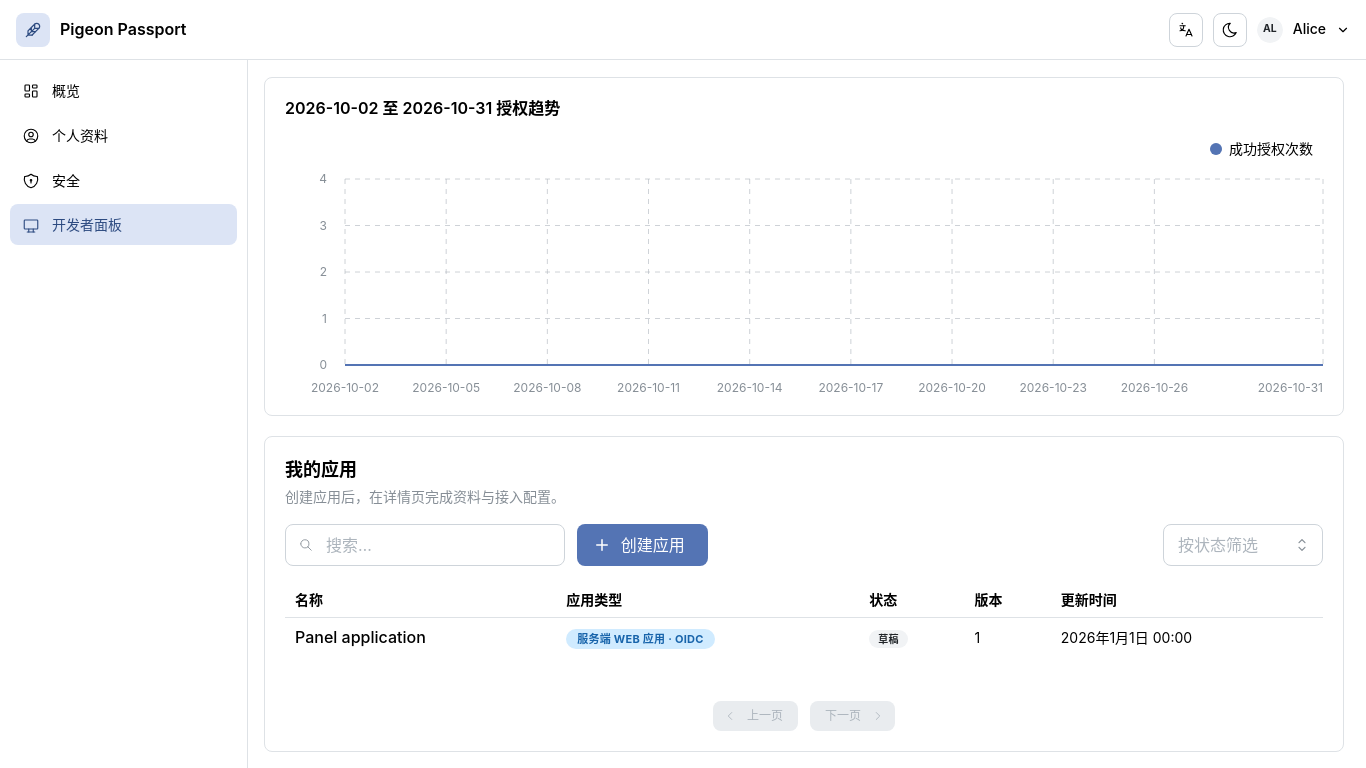
Test case: developer panel › creates an application draft through the create modal
The width and height of the screenshot is (1366, 768).
(page scrolled)
Click the button "创建应用" at (642, 545), box [577,524,708,566]
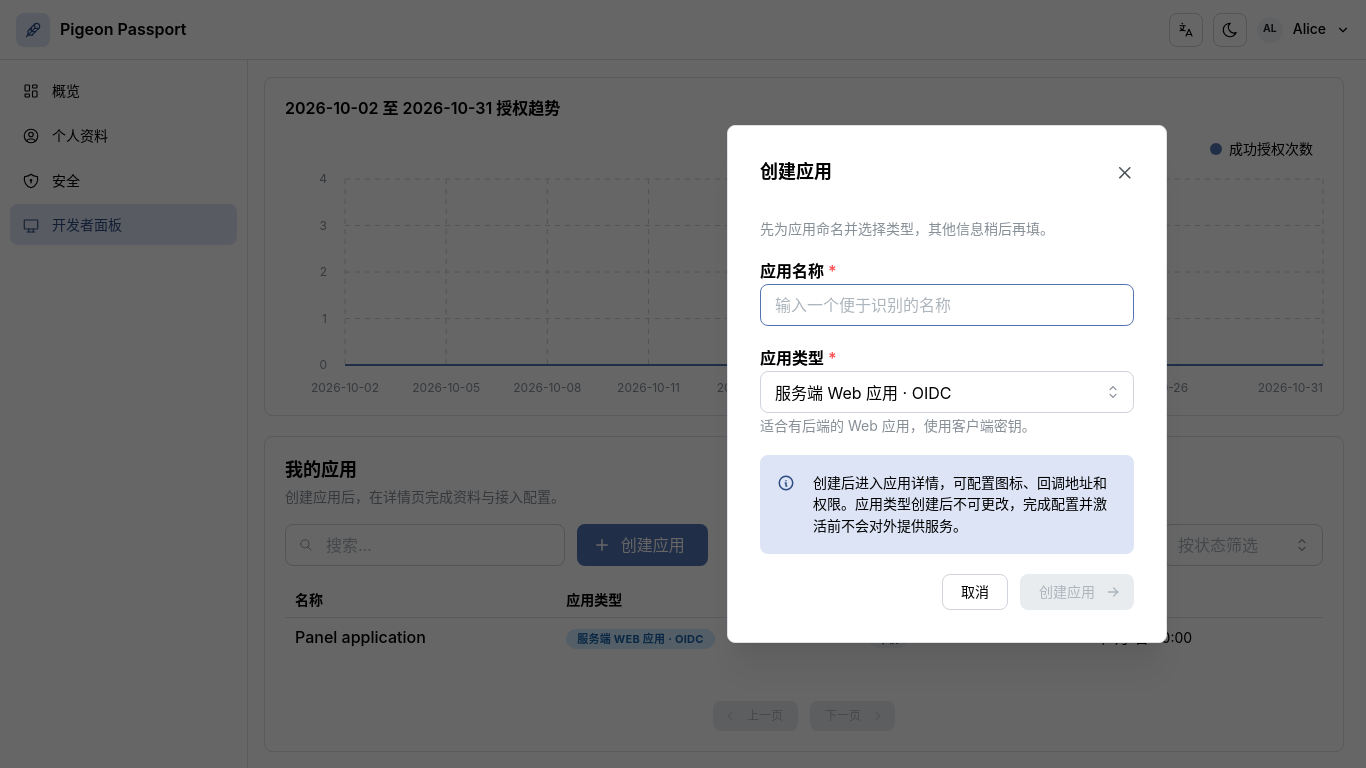
Type "Created app" into the field labelled "应用名称 *" at (947, 305), box [760,284,1134,326]
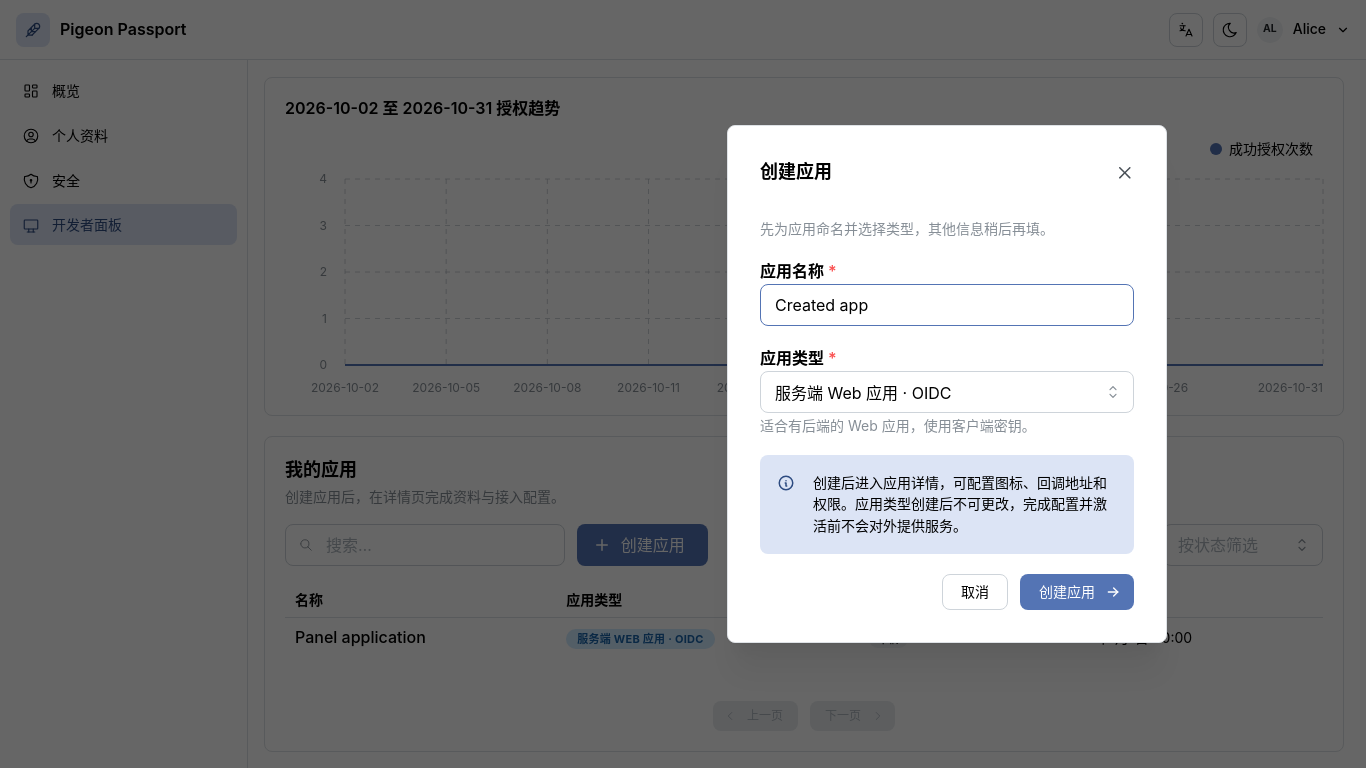
Click the button "创建应用" at (1077, 592), box [1020,574,1134,610]
(page scrolled)
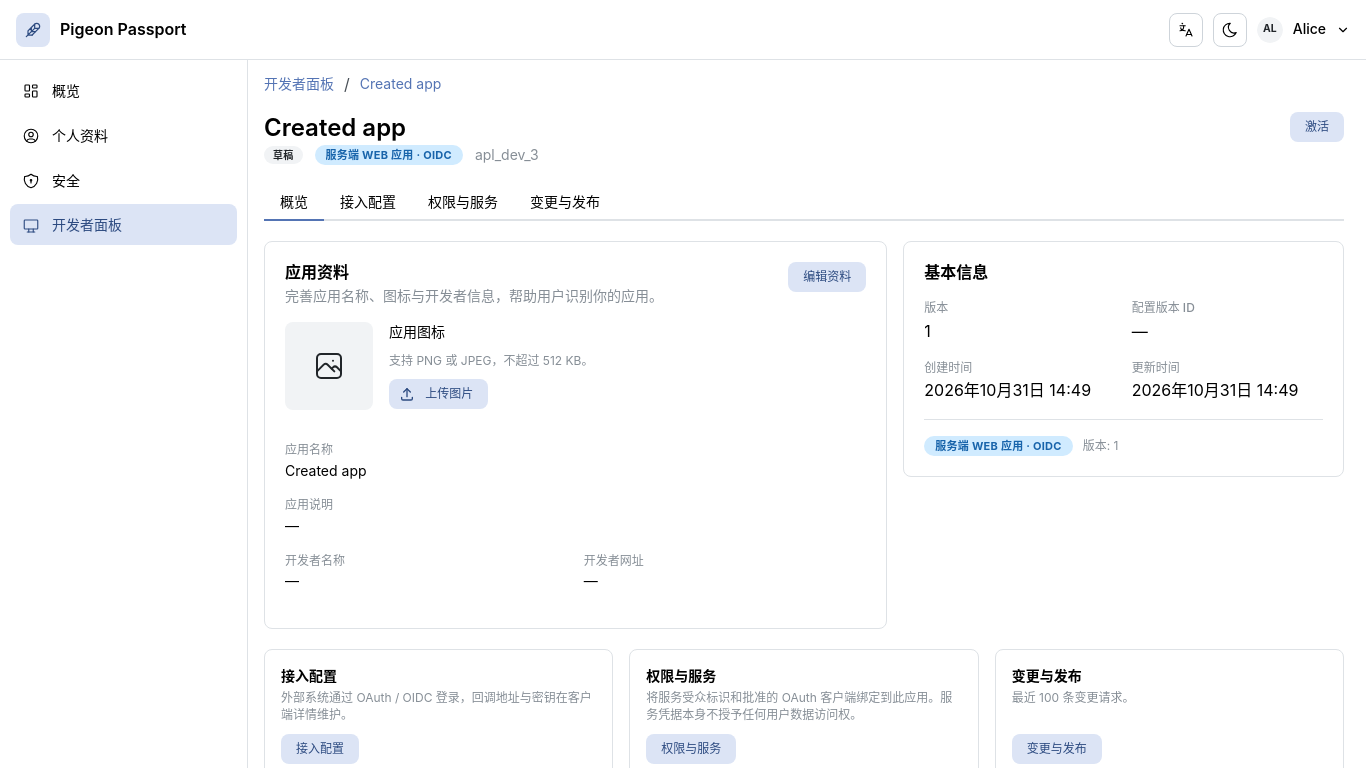
expect the heading "Created app" is shown: met, box [264,113,406,142]
